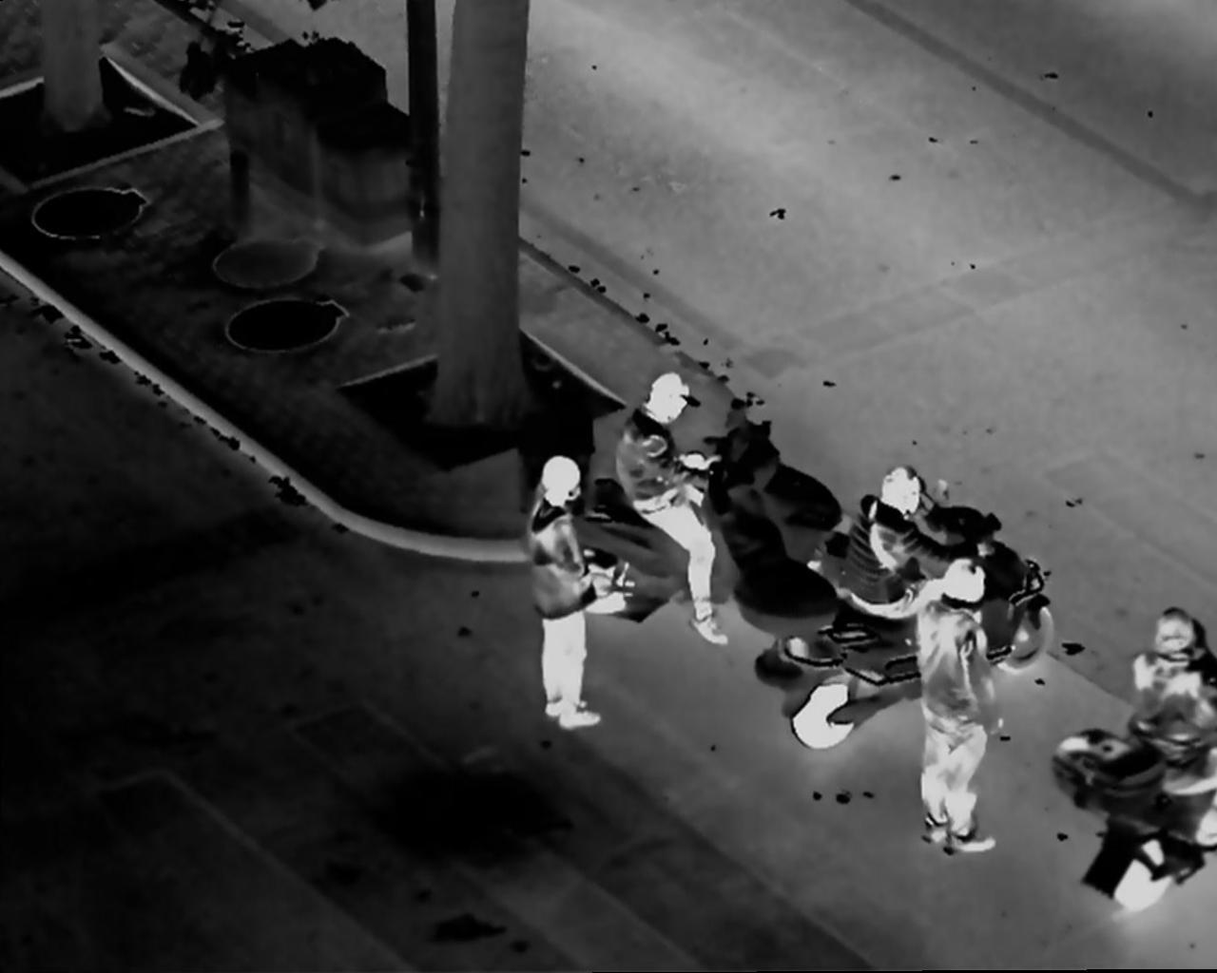person: (618, 367, 724, 647), (918, 558, 999, 859), (524, 449, 603, 730), (842, 459, 978, 620), (1141, 591, 1217, 824)
